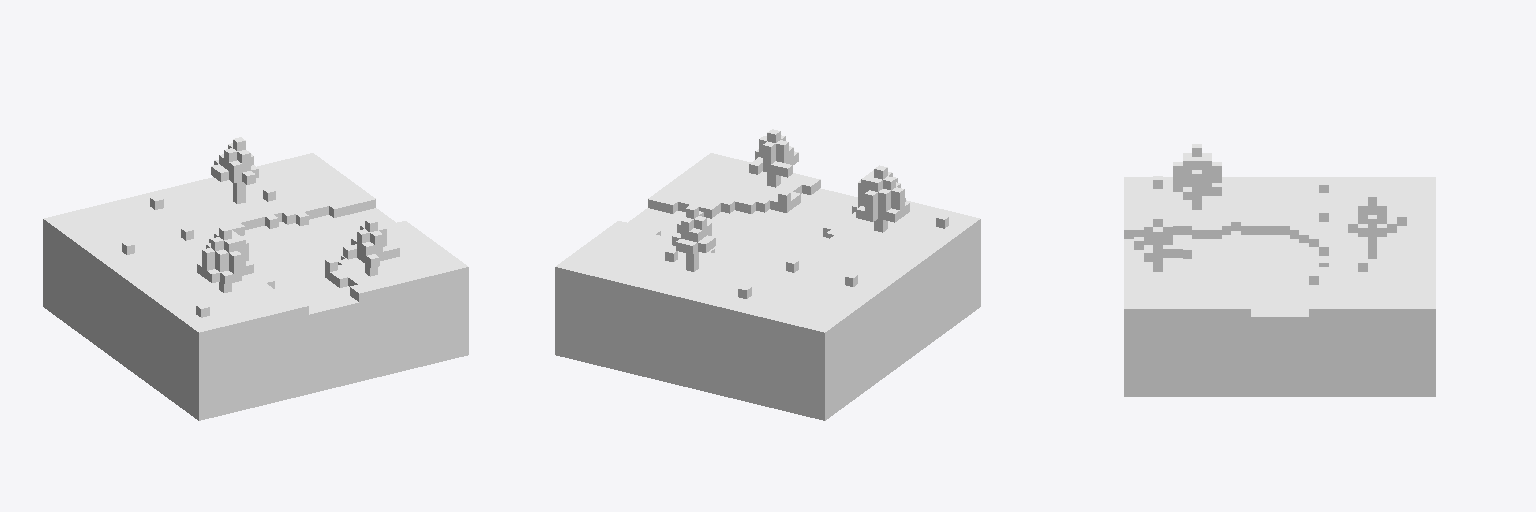
Rendered from Overworld_Land_05.obj.
3 views of the same model, side by side, from view 1: azimuth 30°, elevation 25°; view 2: azimuth 150°, elevation 25°; view 3: azimuth 270°, elevation 25° (orthographic).
Parts seen in each view (by area): view 1: object 1; view 2: object 1; view 3: object 1.
Part boxes in pixels (x1,y1,x2,y2): object 1: (43, 137, 468, 420); object 1: (555, 129, 980, 420); object 1: (1124, 144, 1435, 396).
Size of the model in its own units: 3.2 by 1.7 by 3.2.